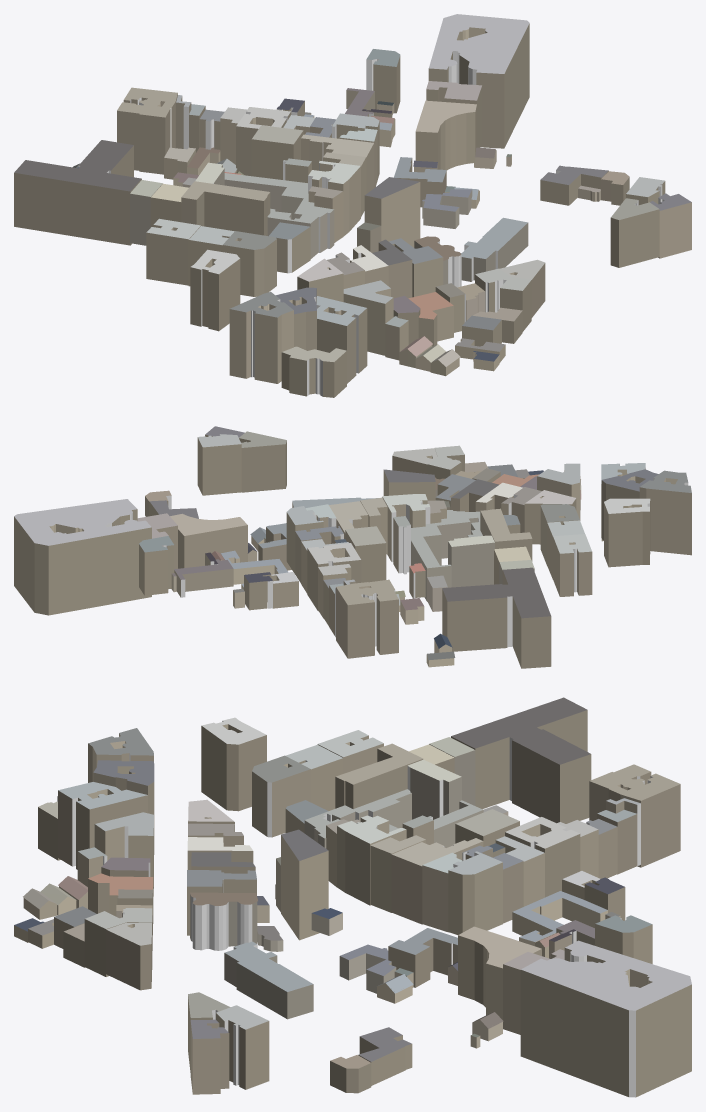
3 renders of one model, top to bottom at view 1: azimuth 30°, elevation 25°; view 2: azimuth 150°, elevation 25°; view 3: azimuth 270°, elevation 25°, orthographic. The views are drawn at different scales.
Visible parts, largest first — view 1: tuile; view 2: tuile; view 3: tuile.
Boxes of the visible parts, box(x1,y1,x2,y2) form: tuile: box(14, 14, 691, 397); tuile: box(14, 426, 691, 668); tuile: box(14, 697, 691, 1097).
Bounding box in the file's own units: 300 × 49.94 × 277.
